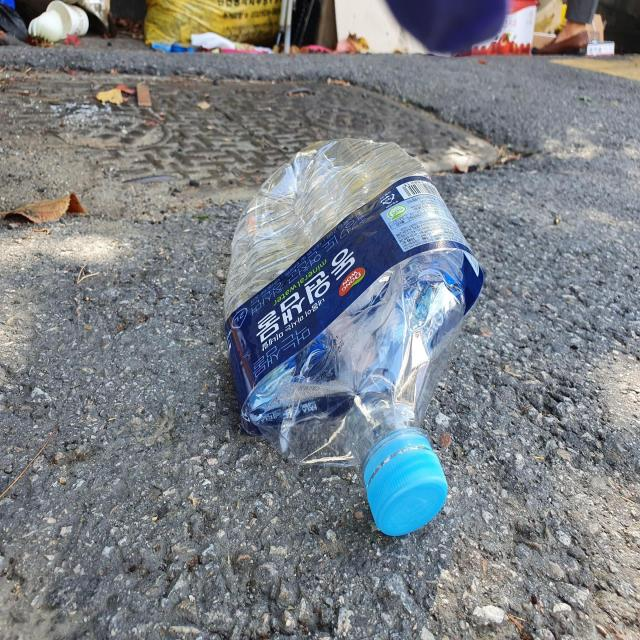plastic: (224, 137, 484, 536)
